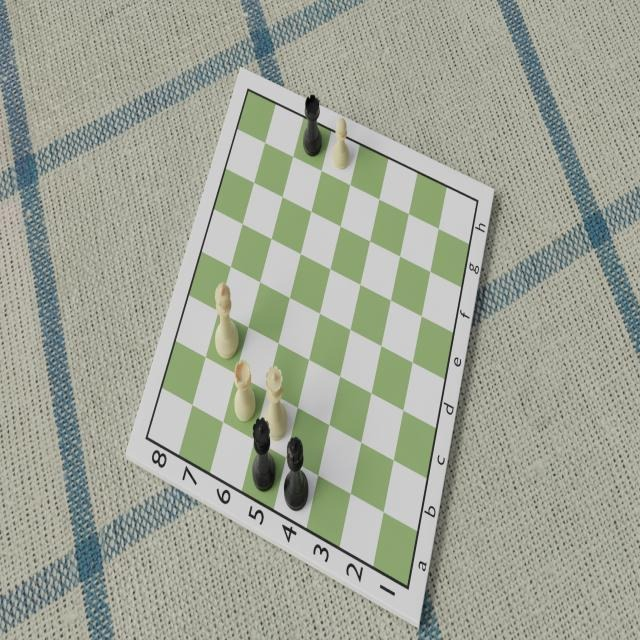black-king: (283, 433, 311, 512)
black-queen: (251, 414, 277, 495)
black-rook: (300, 91, 323, 158)
white-king: (212, 279, 240, 362)
white-pawn: (327, 115, 352, 173)
white-queen: (262, 361, 289, 443)
white-rook: (231, 356, 258, 426)
